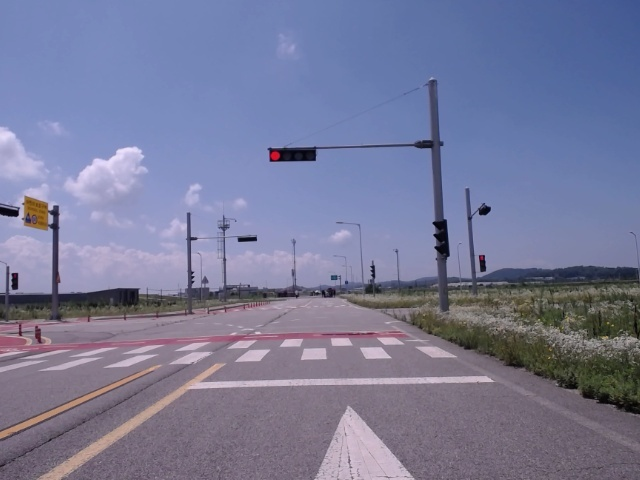red_4: (269, 148, 317, 161)
